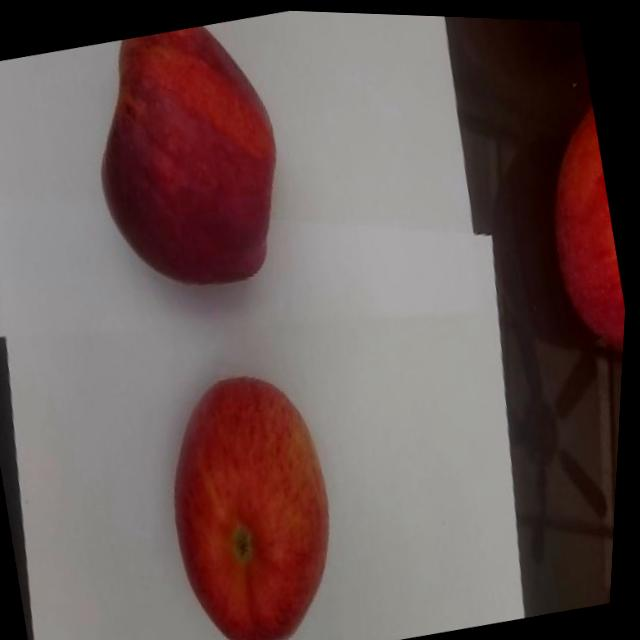Apple: (70, 9, 310, 306), (148, 355, 368, 640), (524, 97, 637, 358)
